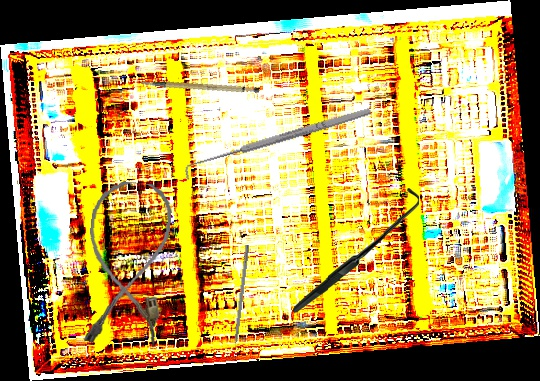Cannula: (78, 178, 175, 349)
Hook Surgical: (290, 187, 422, 314), (181, 104, 375, 181), (230, 244, 250, 359)
Scalpel Handle: (140, 62, 261, 109)
